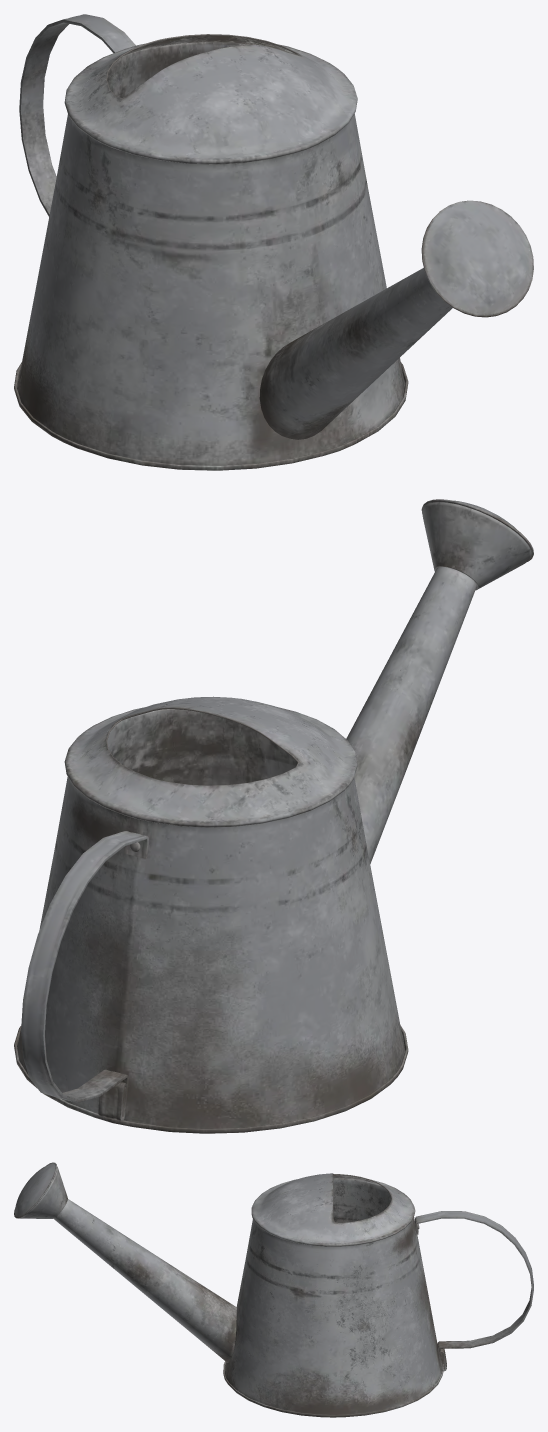
Rendered from watering_can_metal_01.glb.
3 views of the same model, one above another, from view 1: azimuth 30°, elevation 25°; view 2: azimuth 150°, elevation 25°; view 3: azimuth 270°, elevation 25° (orthographic). The views are drawn at different scales.
Parts seen in each view (by area): view 1: watering_can_metal_01; view 2: watering_can_metal_01; view 3: watering_can_metal_01.
Part boxes in pixels (x1=…): watering_can_metal_01: x1=14, y1=14, x2=533, y2=470; watering_can_metal_01: x1=14, y1=499, x2=533, y2=1133; watering_can_metal_01: x1=14, y1=1162, x2=533, y2=1417.
Bounding box in the file's own units: 0.191 × 0.1968 × 0.4523.
1 material, 1 textured.
